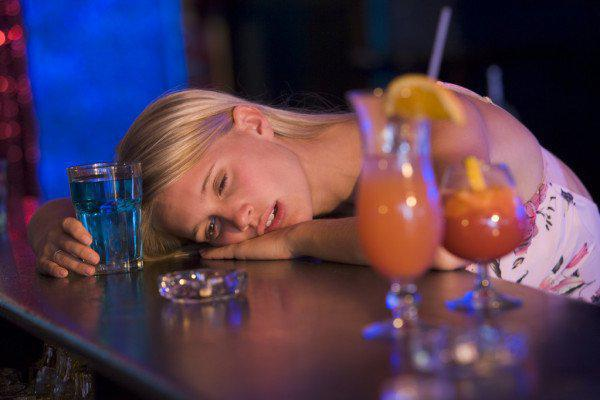Drunk: (155, 142, 307, 242)
